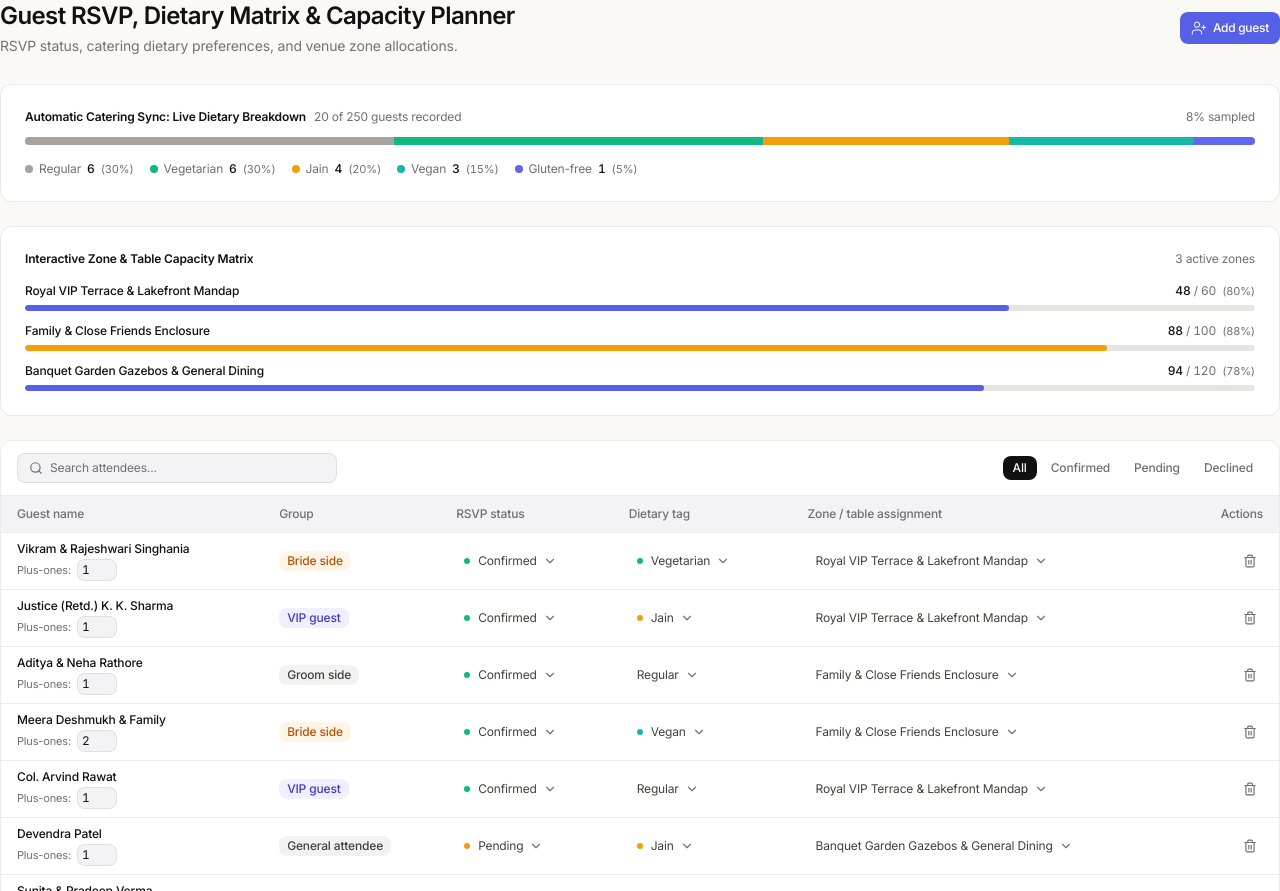
Test: GuestsTab, Dietary Matrix & Zone Capacity › opens Add Guest modal and adds a new guest to the roster
The image size is (1280, 891).
Click the button "Add guest". click: (1230, 28)
box: [1180, 12, 1279, 44]
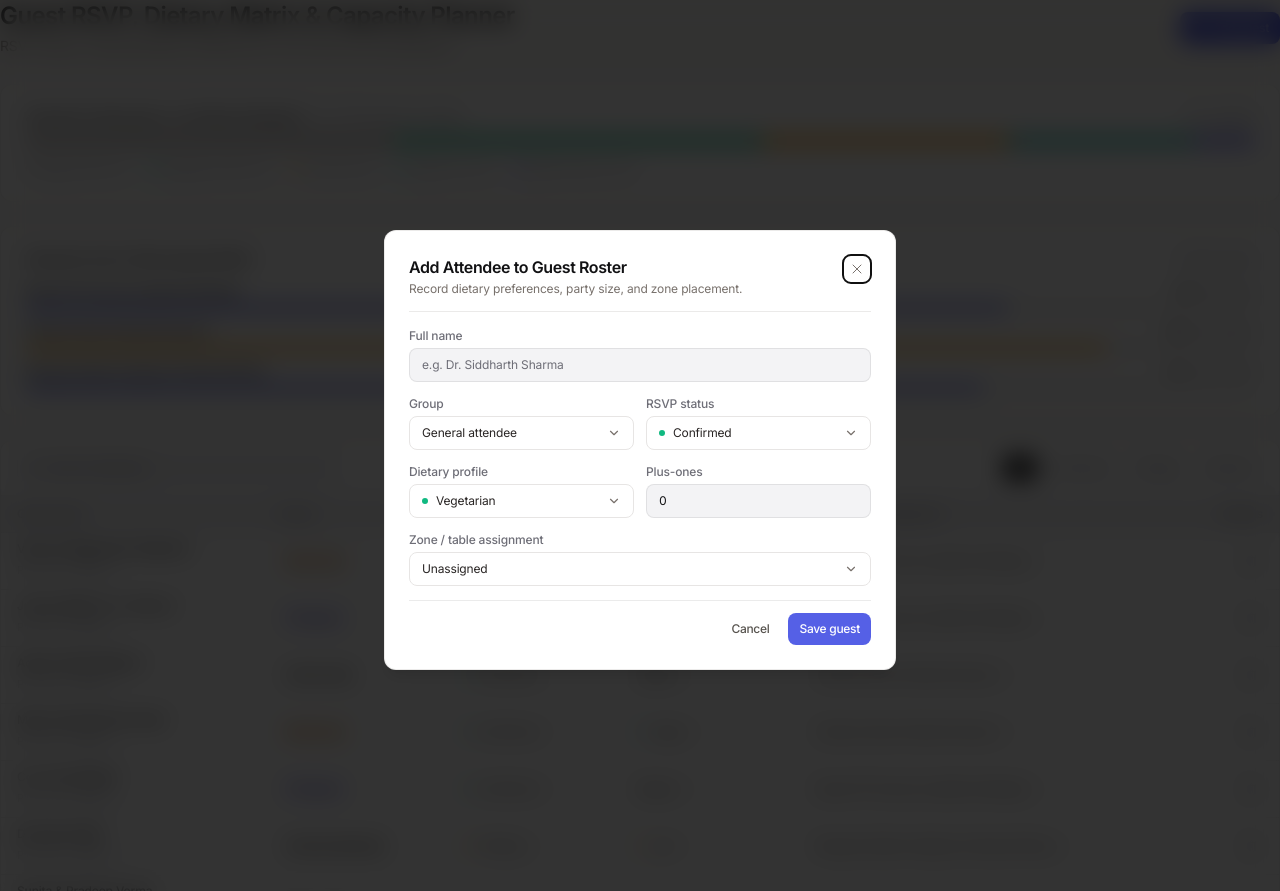
Expected: the heading "Add Attendee to Guest Roster" is shown, [409, 257, 627, 277]
Type "Aarav Singhania" into the field labelled "Full name". click: (640, 365)
box: [409, 348, 871, 382]
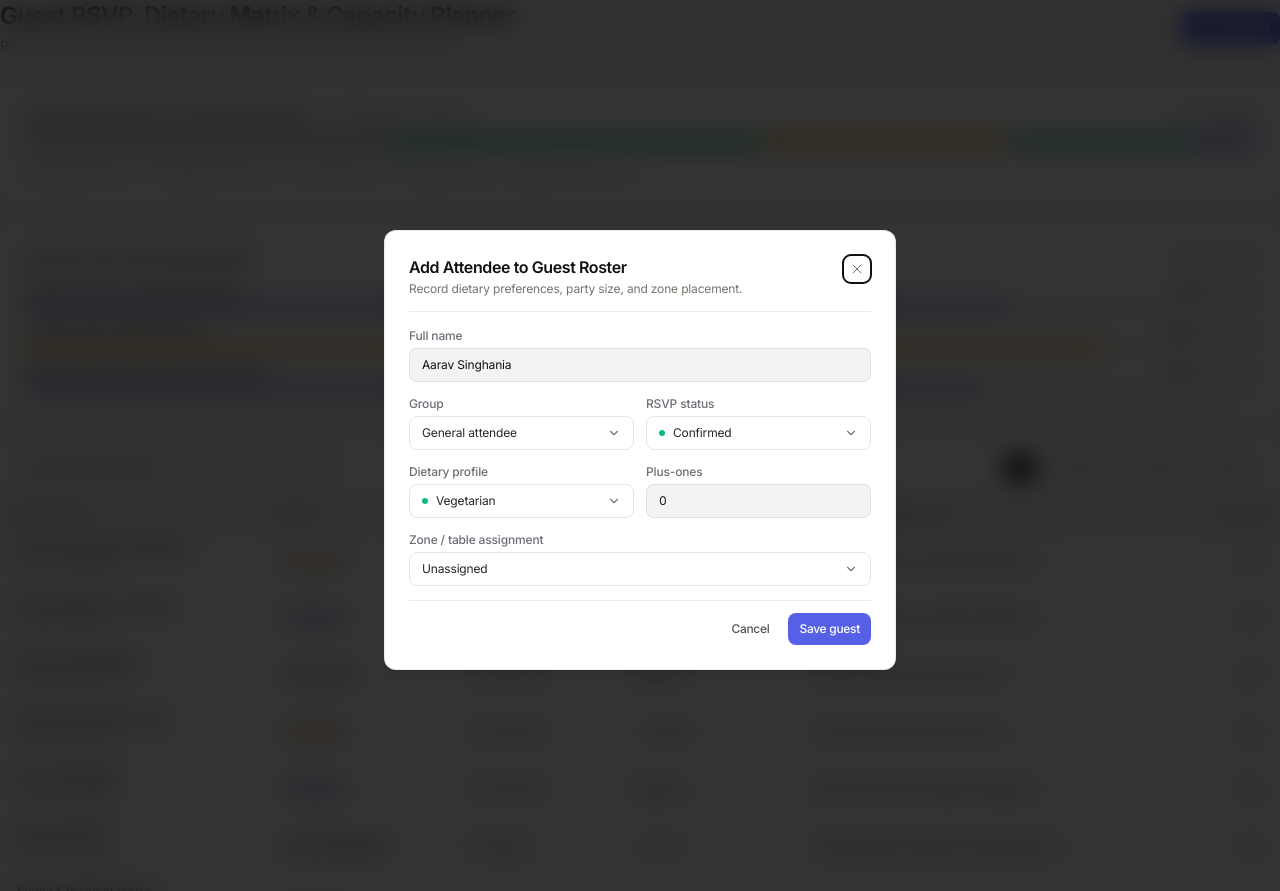
Click the button "Save guest". click: (830, 629)
box: [788, 613, 871, 645]
(page scrolled)
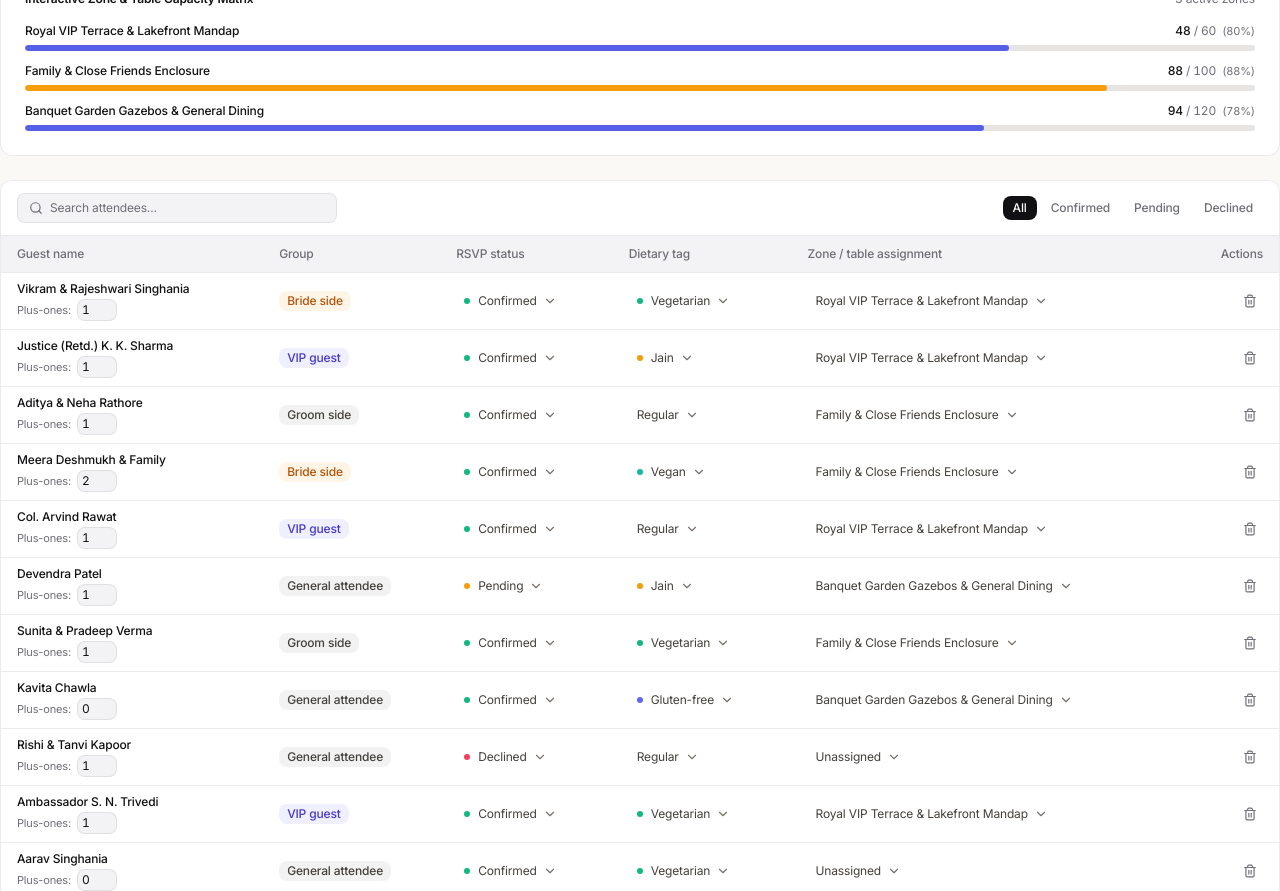
Expected: the heading "Add Attendee to Guest Roster" is gone
Expected: the text "Aarav Singhania" is shown, [17, 851, 108, 866]
